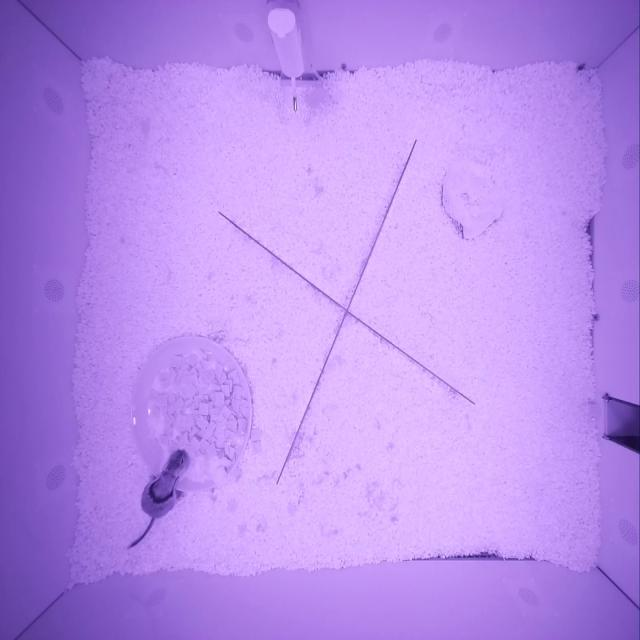adult_front: (140, 449, 191, 516)
